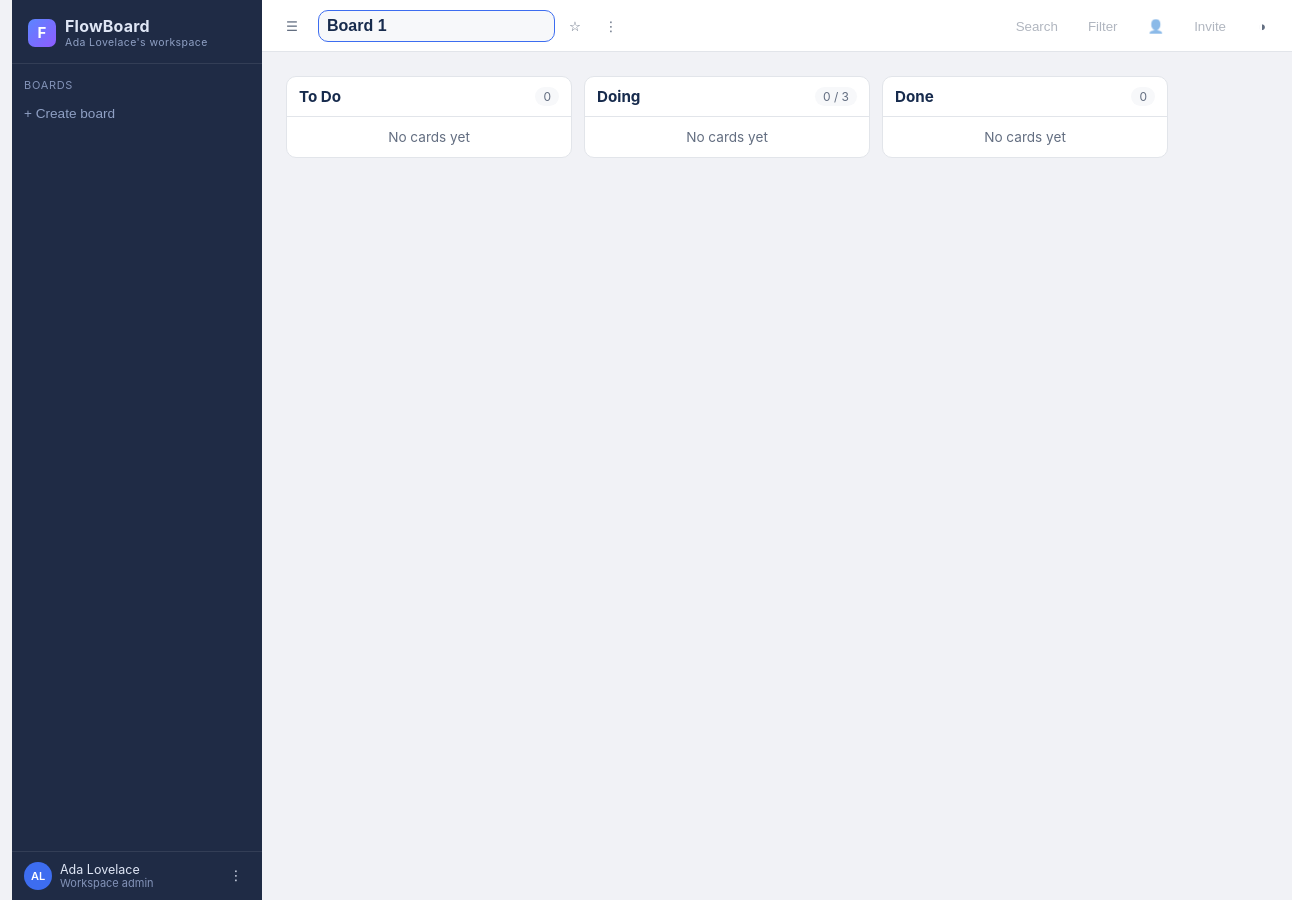
Test: BoardTitle (FS §4.2, B-03, FB-04 spec AC 11) › Enter persists the trimmed value and shows the renamed toast
Step 1. Replace the text in the field named "Board name" with "  Renamed  " → (436,26), box [318,10,555,42]
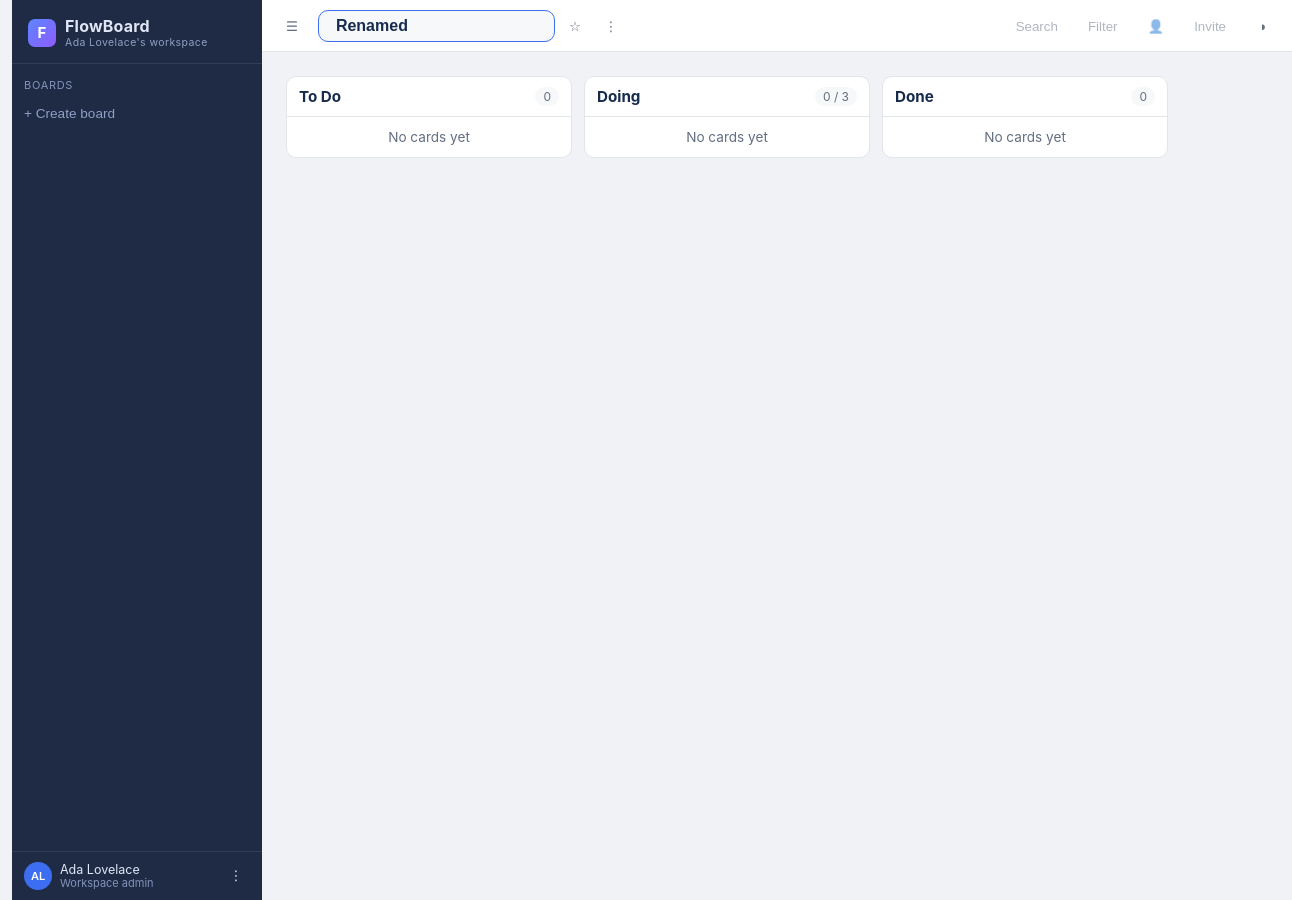
Step 2. Press Enter in the field named "Board name", box [318,10,555,42]
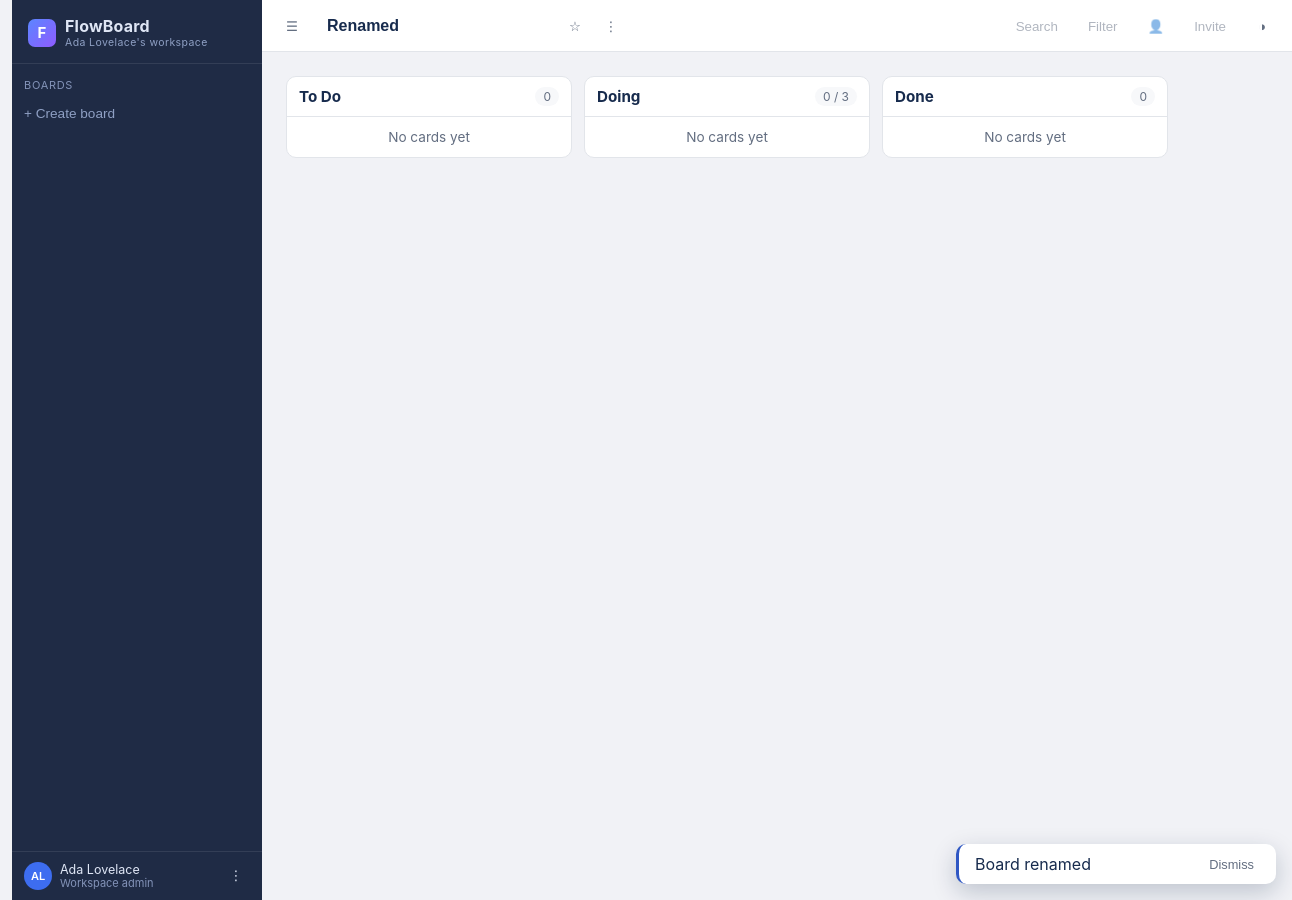
Now the text "Board renamed" is shown, box [975,854,1091,874]
